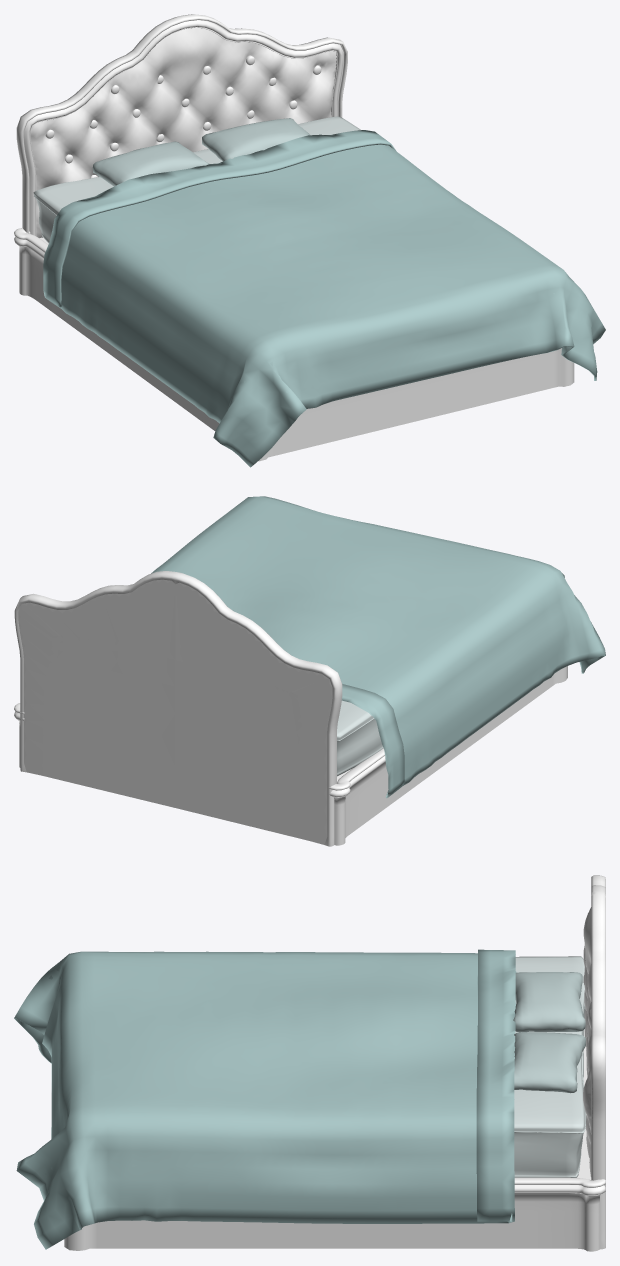
Rendered from bed3.glb.
3 renders of one model, top to bottom at view 1: azimuth 30°, elevation 25°; view 2: azimuth 150°, elevation 25°; view 3: azimuth 270°, elevation 25°, orthographic. The views are drawn at different scales.
Parts seen in each view (by area): view 1: bed3; view 2: bed3; view 3: bed3.
Boxes of the visible parts, x1,y1,x2,y2 form: bed3: (14, 14, 605, 467); bed3: (14, 496, 605, 846); bed3: (14, 875, 605, 1251).
Bounding box in the file's own units: 2.02 × 1.14 × 2.28.
